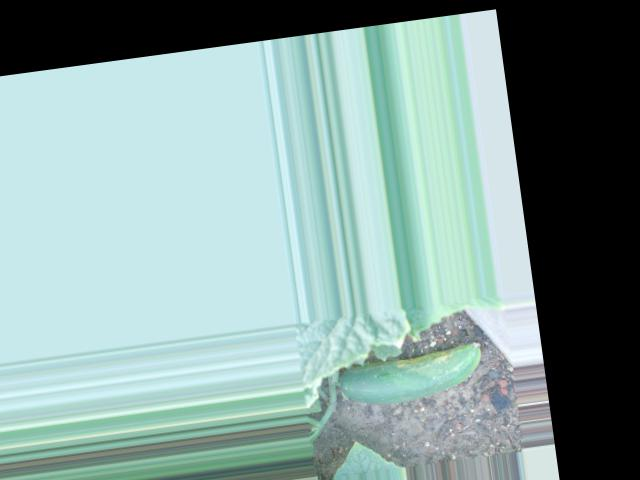cucumber: (337, 341, 486, 409)
